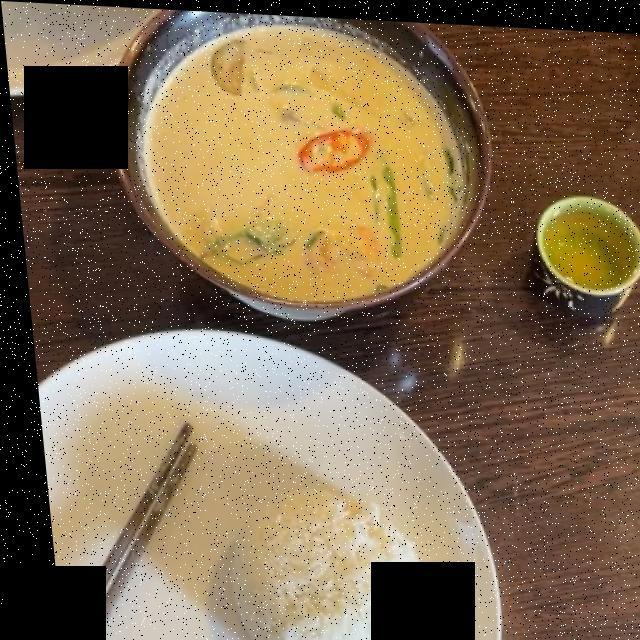curry-vegetarian: (137, 22, 455, 298)
rice: (218, 488, 423, 640)
tea: (542, 212, 619, 279)
